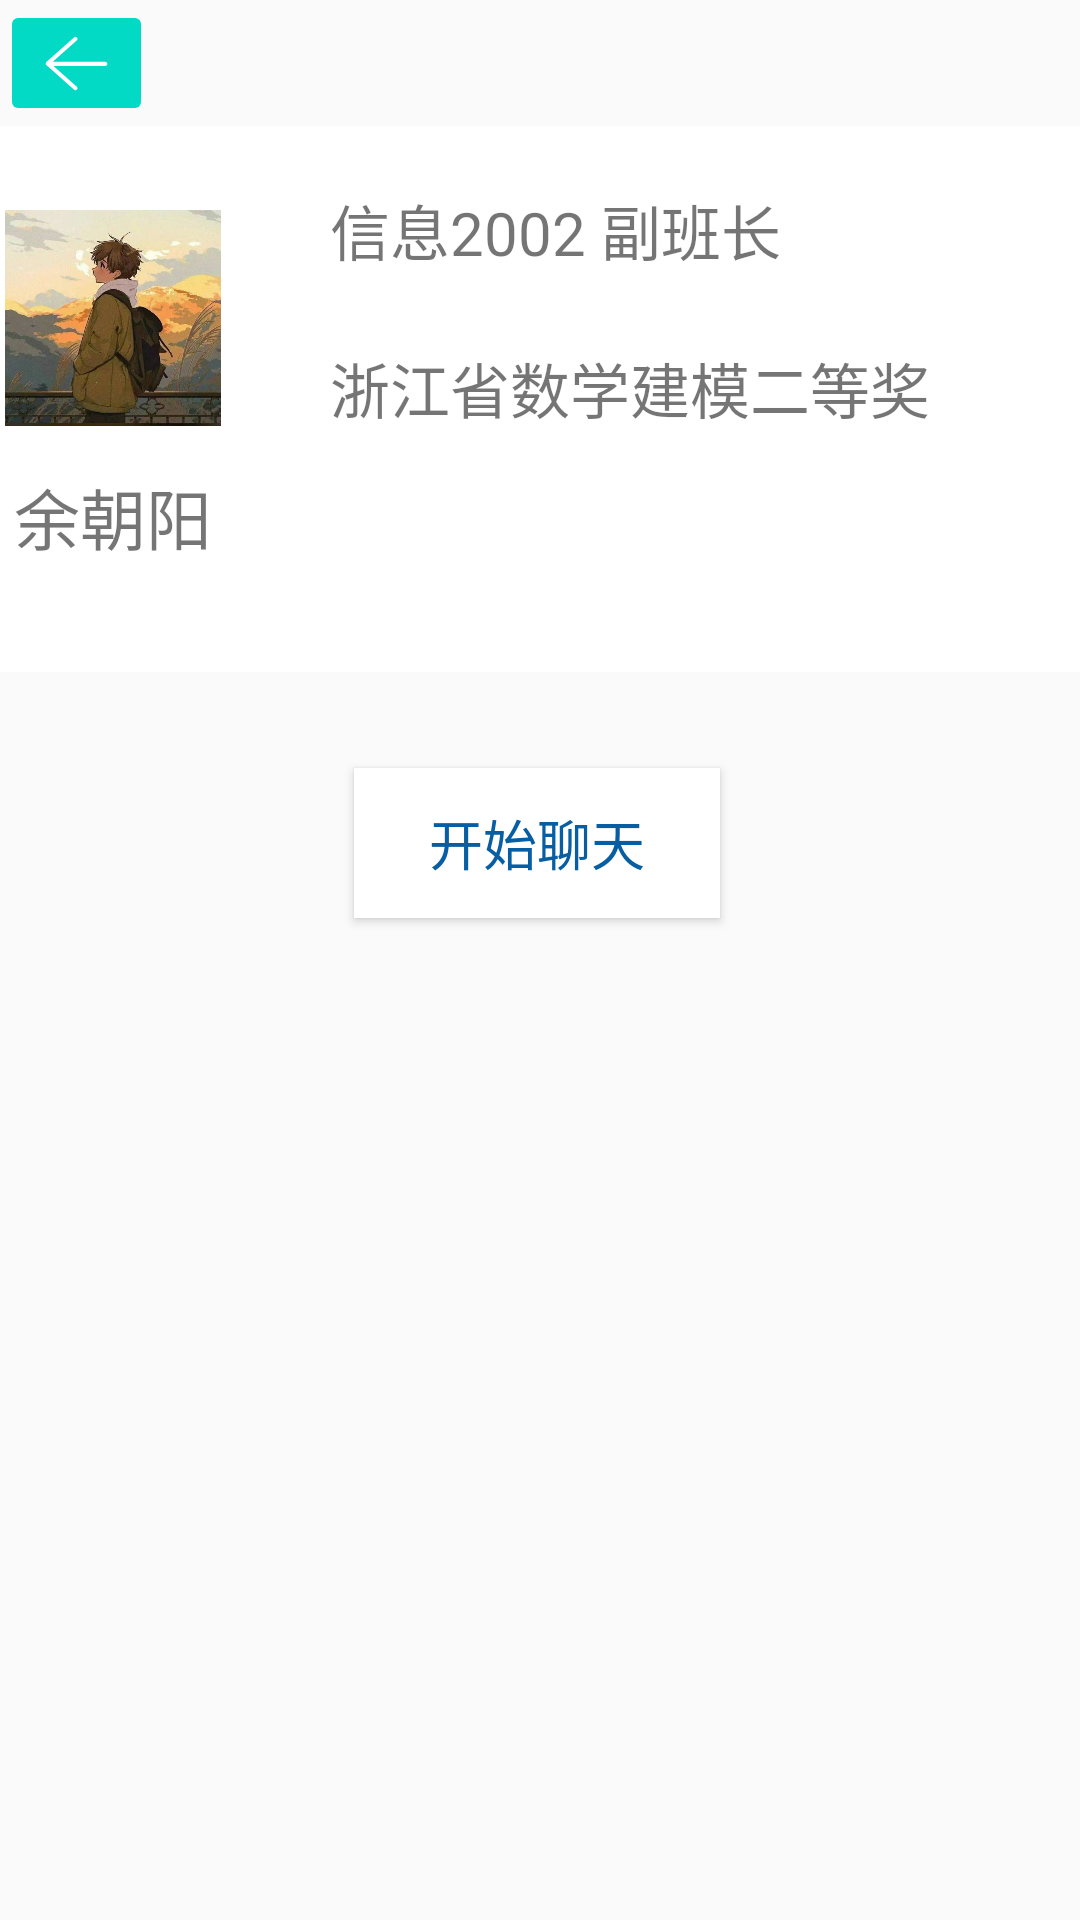

Icon click points for this 1080×1920 phone screenshot, format (x=x, y=y):
return: (x=76, y=63)
